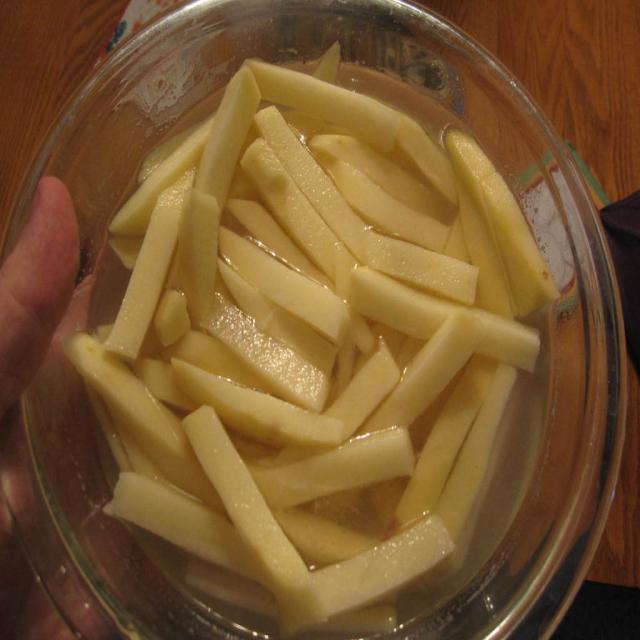French fries: (71, 45, 560, 640)
